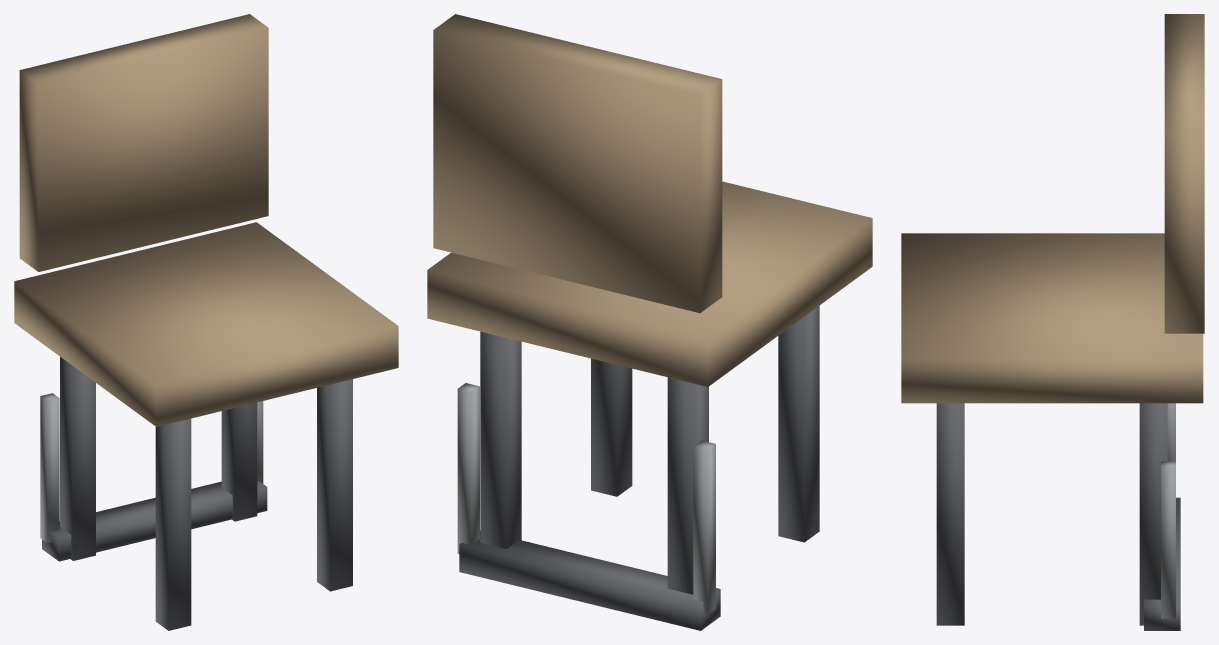
The model's file is school_chair__reinforced.glb.
3 views of the same model, side by side, from view 1: azimuth 30°, elevation 25°; view 2: azimuth 150°, elevation 25°; view 3: azimuth 270°, elevation 25° (orthographic). The views are drawn at different scales.
Visible parts, largest first — view 1: world; view 2: world; view 3: world.
Boxes of the visible parts, box(x1,y1,x2,y2) form: world: box(14, 14, 398, 630); world: box(427, 14, 872, 630); world: box(901, 14, 1204, 630).
Bounding box in the file's own units: 0.4947 × 0.9253 × 0.505.
